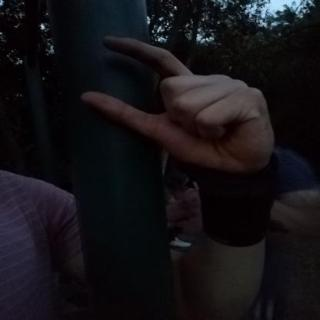DELL: (65, 30, 283, 182)
